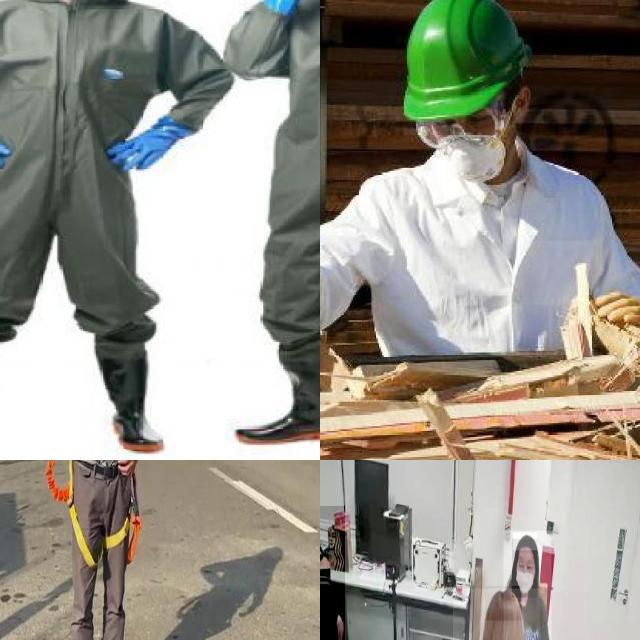Harness: (46, 460, 142, 588)
face_mask: (425, 107, 505, 181), (512, 539, 537, 597)
glasses: (409, 102, 511, 150)
hand_glove: (107, 125, 171, 173), (586, 286, 640, 332)
head_helmet: (394, 0, 532, 123)
head_nohelmet: (485, 586, 523, 621), (513, 533, 537, 551)
person: (320, 0, 640, 394), (0, 0, 225, 460), (212, 0, 320, 460), (503, 530, 552, 640), (320, 506, 345, 640)
shoes: (86, 362, 175, 460), (231, 365, 320, 448)
